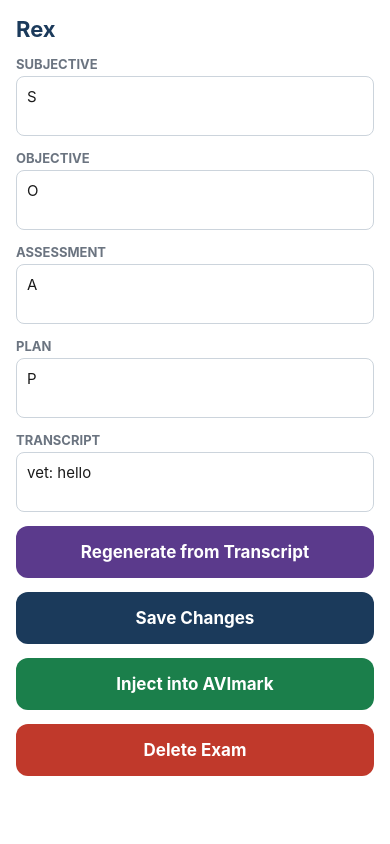
Scenario: ExamEditor › regenerates the note from the edited transcript and updates the SOAP fields
The vet hand-corrects the transcript, then regenerates from it.
Replace the text in the text box with test id "field-transcript" with "vet: corrected words" at (195, 482), box 16,452 -> 374,512
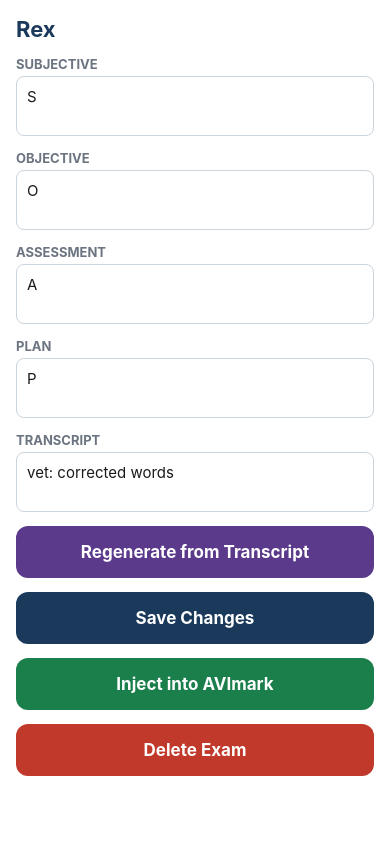
Click the button "Regenerate from Transcript" at (195, 552), box 16,526 -> 374,578
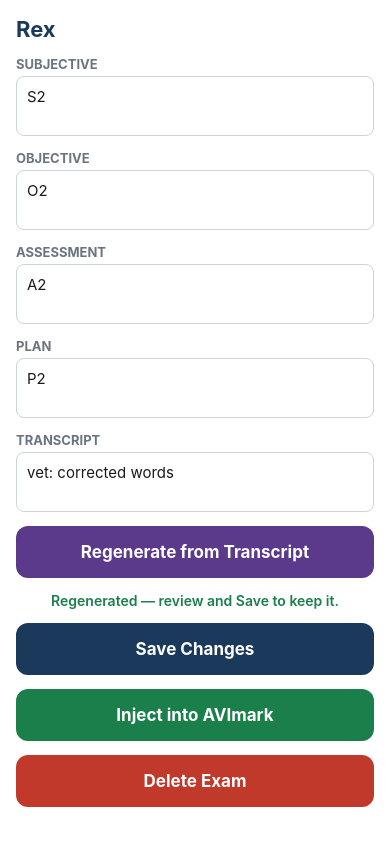
Result: the text "Regenerated — review and Save to keep it." is shown at 51,592 -> 339,609
Result: the text box with test id "field-subjective" holds "S2" at 16,76 -> 374,136
Result: the text box with test id "field-objective" holds "O2" at 16,170 -> 374,230
